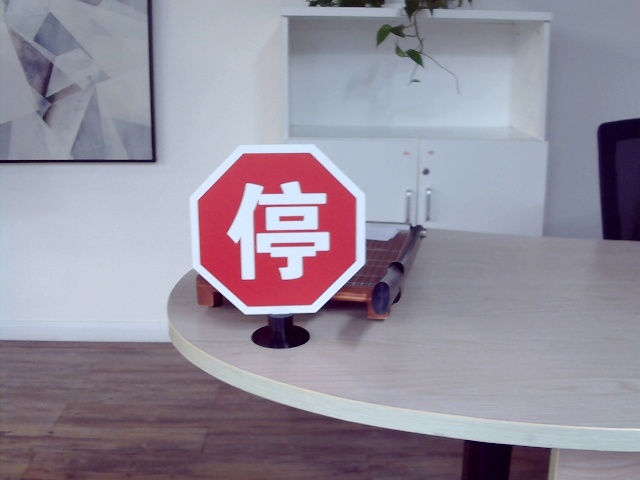stop: (226, 173, 333, 280)
